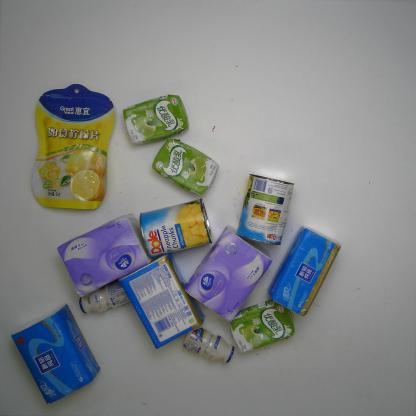Canned Food: (138, 197, 213, 259), (236, 173, 295, 247)
Dried Fruit: (29, 82, 118, 210)
Milk: (152, 137, 220, 197), (122, 93, 192, 146), (228, 298, 295, 352), (182, 326, 235, 364), (78, 281, 131, 314)
Tissue: (10, 303, 100, 404), (183, 225, 273, 323), (55, 213, 156, 299), (118, 253, 205, 350), (267, 225, 343, 317)
